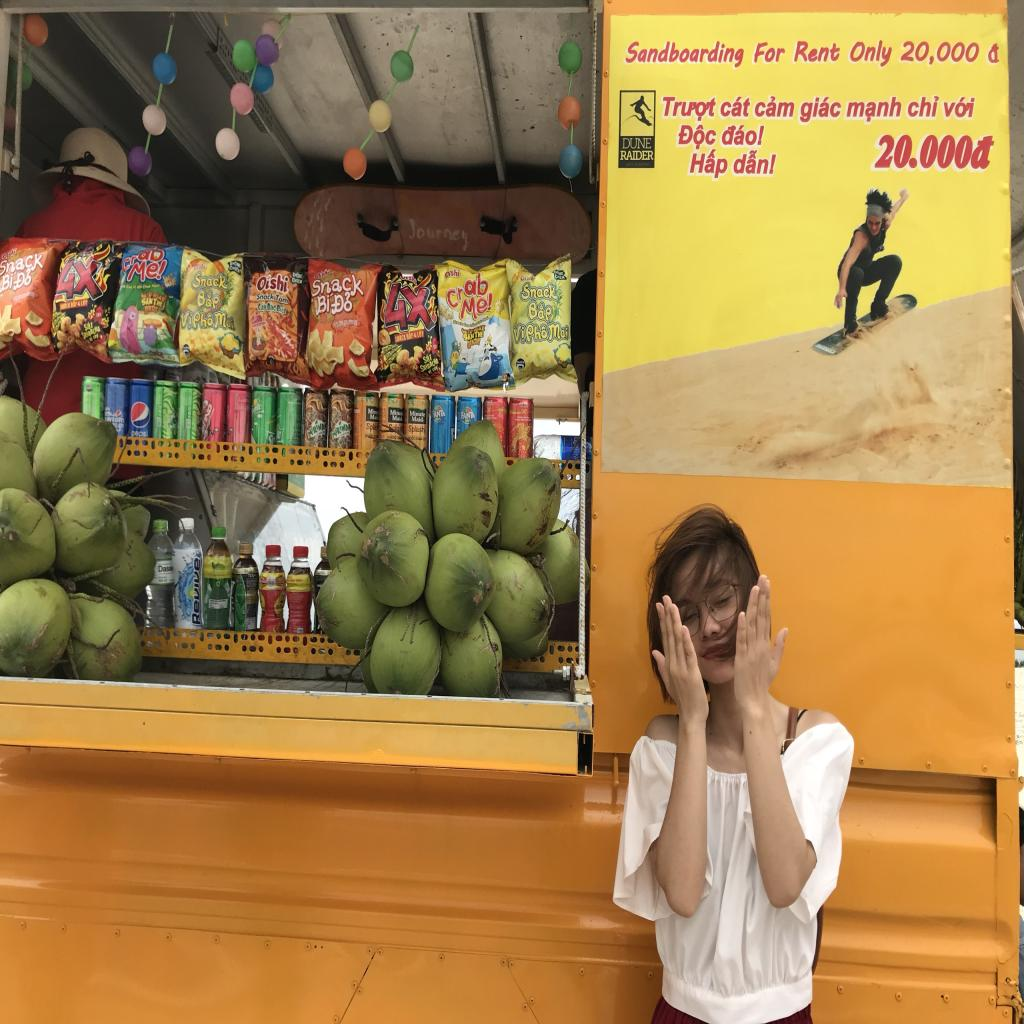text: (872, 133, 998, 174), (621, 37, 747, 72), (382, 279, 438, 333), (897, 39, 980, 66), (55, 258, 105, 300), (408, 219, 468, 254), (442, 269, 490, 312), (660, 95, 718, 124), (844, 95, 902, 124), (846, 38, 894, 70), (121, 242, 168, 273), (792, 38, 844, 65), (688, 148, 731, 180), (798, 93, 842, 124), (312, 273, 364, 298), (731, 149, 779, 175), (676, 123, 718, 151), (0, 250, 45, 276), (124, 258, 170, 283), (456, 292, 494, 322), (753, 94, 796, 120), (720, 124, 766, 147), (718, 93, 752, 120), (518, 280, 559, 302), (752, 41, 788, 65), (906, 95, 942, 119), (191, 272, 229, 292), (944, 96, 976, 119), (192, 555, 202, 627), (327, 290, 354, 316), (255, 274, 290, 294), (526, 301, 554, 323), (195, 290, 222, 312), (525, 322, 549, 346), (313, 292, 334, 318), (214, 310, 236, 334), (12, 266, 32, 292), (547, 321, 569, 344), (192, 310, 214, 331), (0, 270, 18, 295), (202, 400, 214, 436), (307, 420, 328, 440), (80, 323, 102, 342), (331, 421, 353, 440), (420, 357, 440, 374), (986, 42, 1000, 65), (179, 309, 193, 331), (512, 322, 526, 344), (312, 268, 332, 281), (0, 246, 18, 260), (398, 276, 419, 287), (255, 292, 275, 302), (152, 292, 168, 304), (276, 302, 288, 318), (276, 293, 290, 306), (408, 424, 426, 434), (379, 352, 388, 370), (266, 302, 278, 315), (168, 414, 178, 429), (422, 352, 434, 364), (444, 269, 460, 278), (432, 409, 446, 419), (253, 400, 262, 415), (257, 303, 268, 315), (366, 422, 377, 434), (84, 319, 94, 332), (140, 296, 153, 306), (229, 260, 242, 270), (460, 412, 476, 420), (158, 566, 174, 574), (131, 431, 149, 438), (473, 324, 485, 334), (394, 334, 407, 343), (521, 273, 534, 282), (228, 266, 242, 274), (344, 320, 358, 328), (461, 334, 475, 342), (390, 409, 404, 417), (410, 411, 426, 418), (153, 298, 164, 308), (267, 435, 276, 446), (573, 448, 580, 462), (59, 302, 71, 310), (194, 262, 206, 270), (292, 272, 304, 280), (452, 319, 464, 327), (466, 338, 474, 350), (411, 416, 424, 423), (80, 298, 89, 308), (338, 371, 348, 380), (474, 330, 484, 339), (406, 330, 414, 341), (417, 328, 425, 339), (368, 408, 379, 416), (292, 277, 304, 284), (267, 353, 276, 362), (474, 338, 482, 347), (552, 270, 564, 276), (554, 275, 566, 281), (315, 570, 327, 576), (92, 332, 99, 342), (392, 416, 403, 422), (277, 428, 282, 441), (482, 315, 490, 323), (396, 424, 404, 432), (71, 300, 78, 309), (142, 284, 152, 290), (333, 320, 339, 330), (338, 319, 344, 329), (387, 434, 397, 440), (476, 318, 483, 326), (461, 327, 468, 335), (467, 327, 474, 335), (370, 414, 379, 420), (365, 433, 374, 439), (485, 399, 494, 405), (96, 311, 102, 319), (432, 366, 438, 374), (89, 335, 94, 344), (432, 343, 438, 350), (463, 322, 470, 328), (243, 568, 250, 574), (126, 285, 134, 290), (408, 436, 416, 441), (248, 573, 256, 578), (137, 284, 143, 290), (470, 322, 476, 328), (416, 437, 423, 442), (428, 368, 432, 376), (132, 285, 138, 290), (516, 361, 526, 364), (396, 436, 403, 440), (78, 299, 81, 307), (414, 332, 417, 340), (423, 436, 427, 442), (252, 568, 258, 572), (249, 568, 253, 573)
